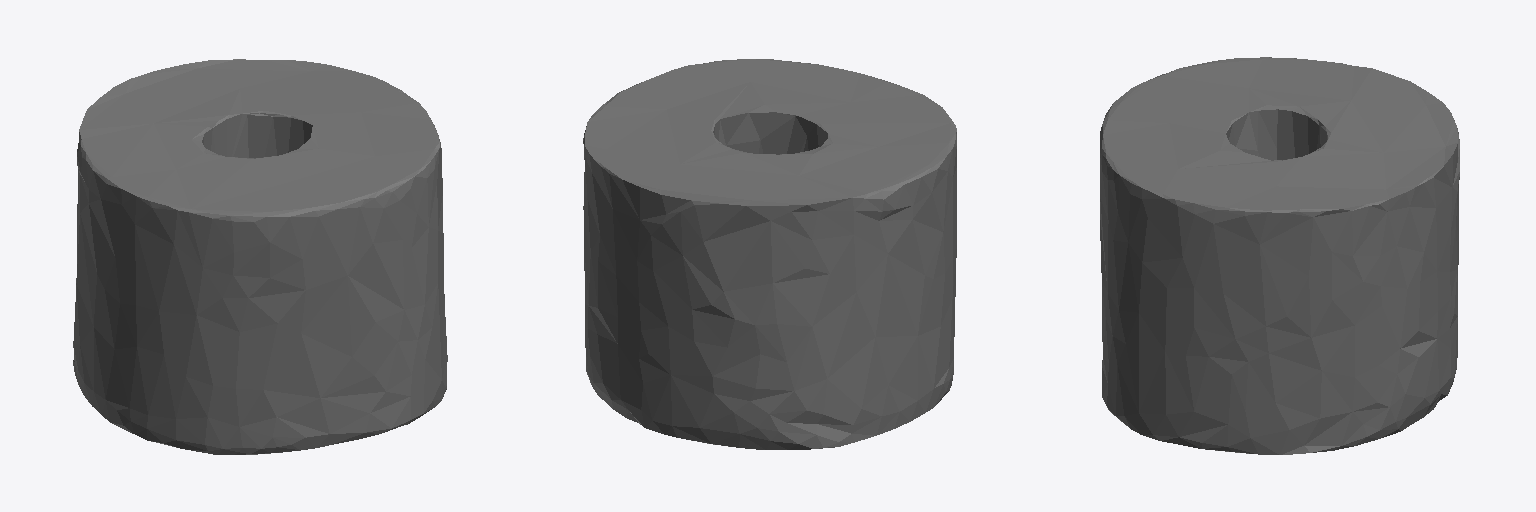
File: br_tpaperRoll.obj
3 renders of one model, left to right at view 1: azimuth 30°, elevation 25°; view 2: azimuth 150°, elevation 25°; view 3: azimuth 270°, elevation 25°, orthographic.
Visible parts, largest first — view 1: br_tpaperRoll; view 2: br_tpaperRoll; view 3: br_tpaperRoll.
Part boxes in pixels (left/top/right/bottom): br_tpaperRoll: left=73, top=59, right=447, bottom=454; br_tpaperRoll: left=583, top=59, right=956, bottom=449; br_tpaperRoll: left=1100, top=57, right=1459, bottom=454.
Bounding box in the file's own units: 0.1383 × 0.103 × 0.1354.